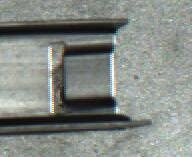press: (19, 17, 145, 128)
